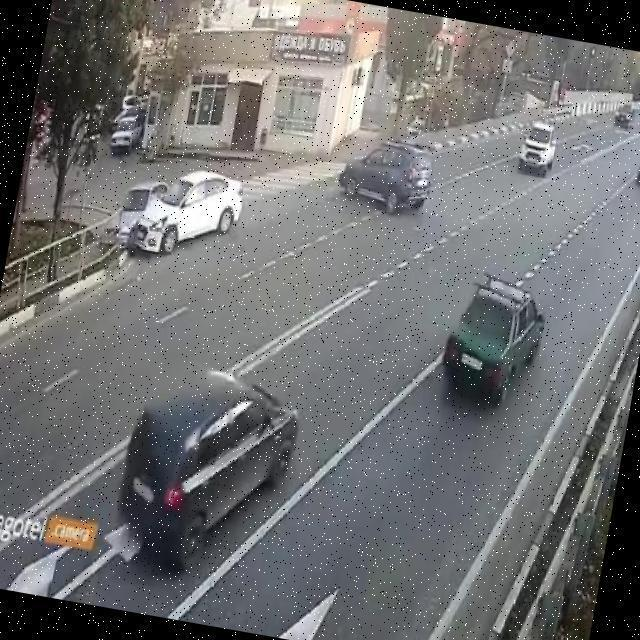accident: (111, 186, 195, 262)
